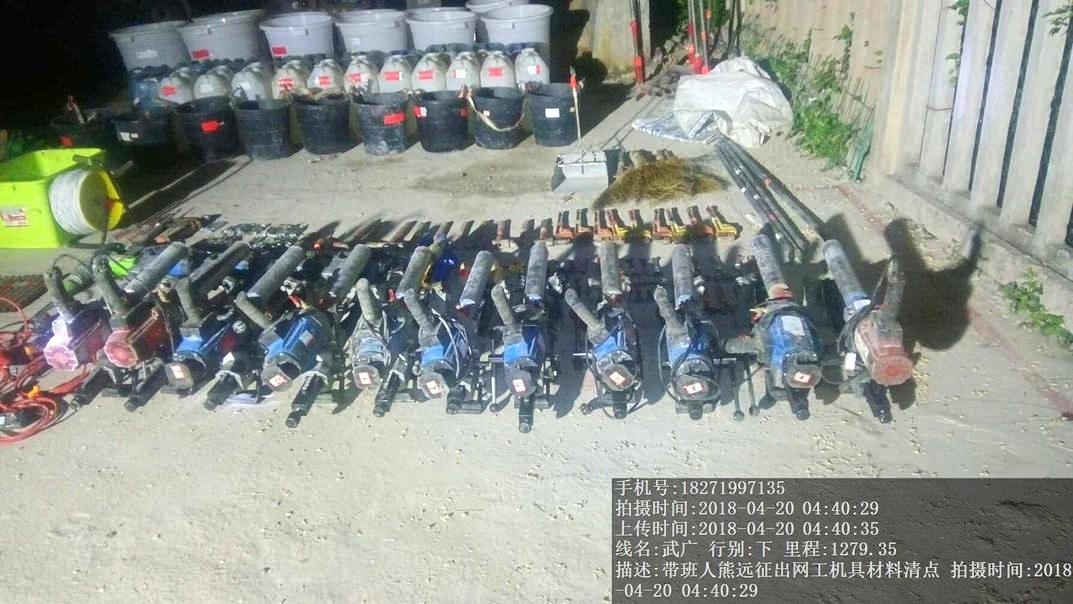GFJ: (823, 238, 921, 433), (647, 238, 734, 421), (739, 237, 823, 420), (489, 234, 568, 427), (566, 237, 644, 423), (250, 263, 355, 392), (414, 249, 489, 408), (352, 254, 424, 391)
SB: (582, 149, 726, 199)
